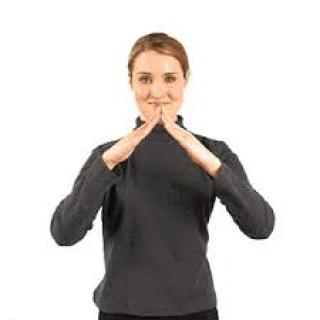House: (95, 96, 228, 180)
